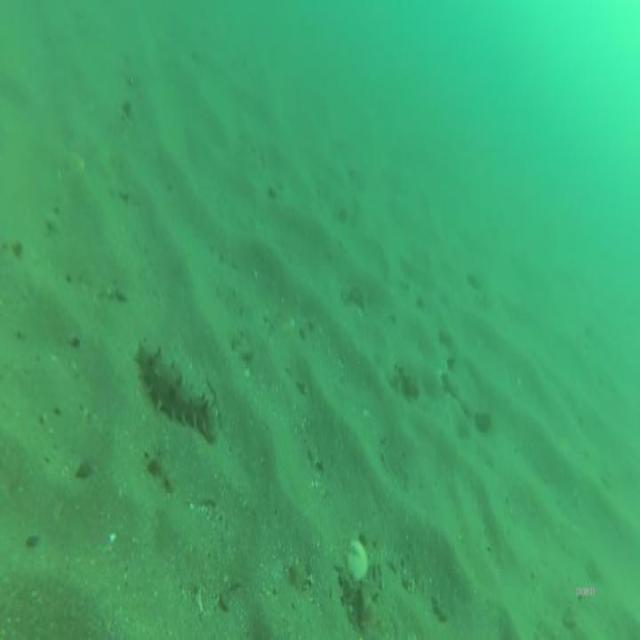holothurian: (132, 335, 222, 447)
